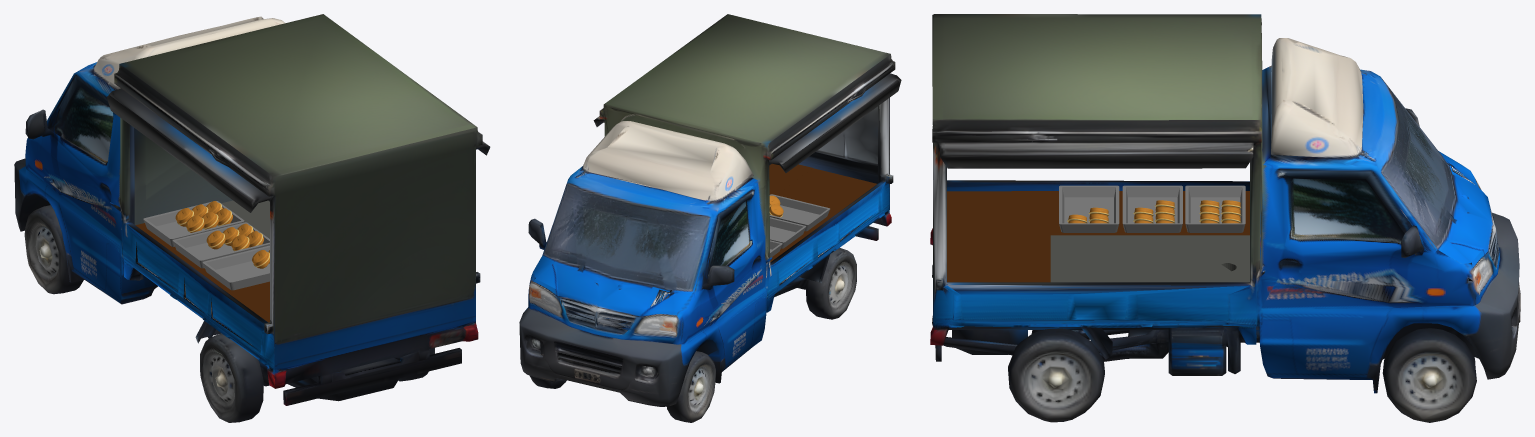
The model's file is foodTruck.fbx.
The picture shows the model from 3 angles, left to right: view 1: azimuth 30°, elevation 25°; view 2: azimuth 150°, elevation 25°; view 3: azimuth 270°, elevation 25°; orthographic projection. The views are drawn at different scales.
Visible parts, largest first — view 1: part_0000, Cube.005, Cube.001, Cube.004, Cube.003, Cube; view 2: part_0000, Cube.001, Cube.005, Cube.002, Cube.004; view 3: part_0000, Cube, Cube.001, Cube.002, Cube.005, Cube.004, Cube.003.
Part boxes in pixels (<box>): part_0000: <box>14,14,490,422</box>; Cube.005: <box>202,245,269,290</box>; Cube.001: <box>136,223,269,322</box>; Cube.004: <box>172,222,269,268</box>; Cube.003: <box>143,201,244,246</box>; Cube: <box>221,200,269,238</box>; part_0000: <box>519,14,901,422</box>; Cube.001: <box>770,168,876,261</box>; Cube.005: <box>769,194,829,231</box>; Cube.002: <box>769,163,812,194</box>; Cube.004: <box>770,217,806,248</box>; part_0000: <box>930,14,1520,422</box>; Cube: <box>1050,235,1249,282</box>; Cube.001: <box>947,191,1249,237</box>; Cube.002: <box>947,237,1050,282</box>; Cube.005: <box>1059,185,1119,232</box>; Cube.004: <box>1122,185,1182,232</box>; Cube.003: <box>1185,185,1245,232</box>.
Bounding box in the file's own units: 503 × 548 × 953.
